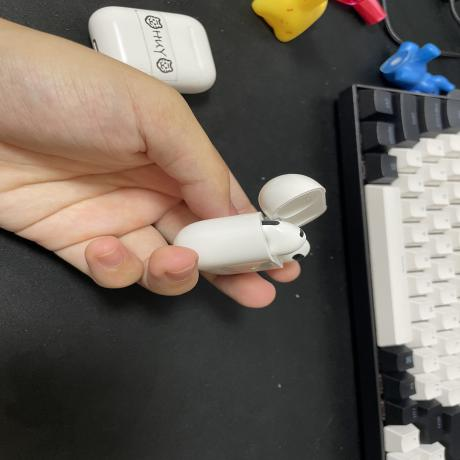airpod2: (86, 3, 222, 93)
airpod3: (160, 168, 337, 282)
